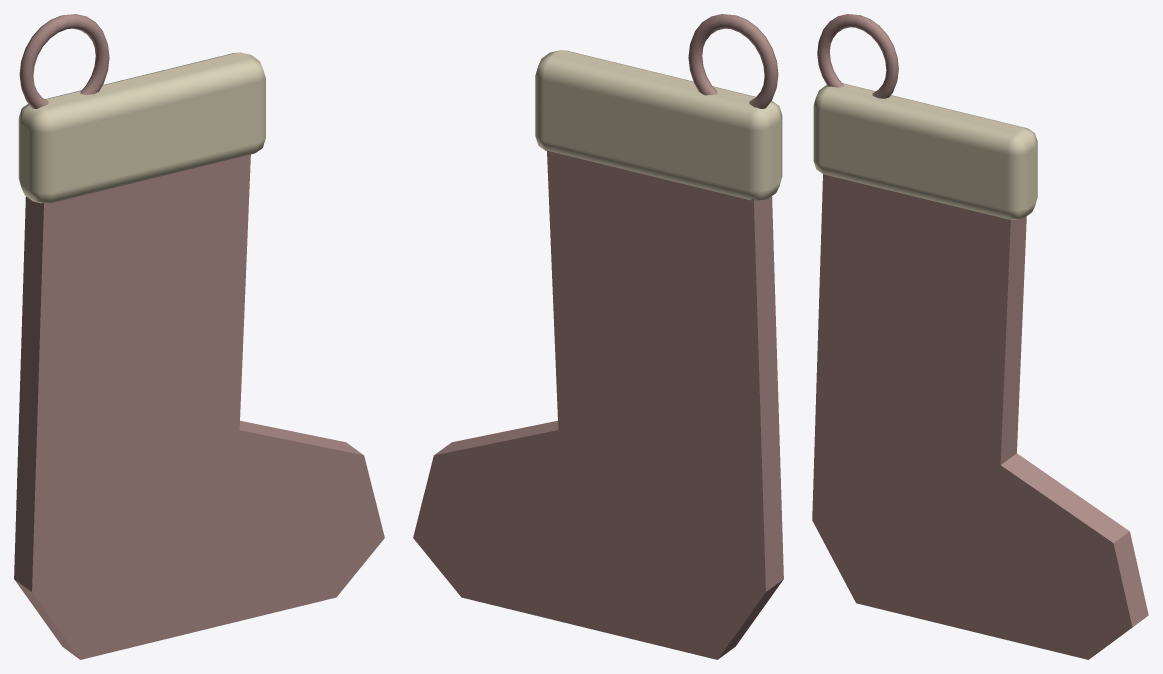
File: stocking.glb
3 renders of one model, left to right at view 1: azimuth 30°, elevation 25°; view 2: azimuth 150°, elevation 25°; view 3: azimuth 330°, elevation 25°, orthographic. The views are drawn at different scales.
Parts seen in each view (by area): view 1: closed-stocking-cloth, folded-stocking-cuff, stocking-hanging-loop; view 2: closed-stocking-cloth, folded-stocking-cuff, stocking-hanging-loop; view 3: closed-stocking-cloth, folded-stocking-cuff, stocking-hanging-loop.
Part boxes in pixels (bbox=[...]): closed-stocking-cloth: bbox=[14, 154, 384, 659]; folded-stocking-cuff: bbox=[18, 52, 265, 203]; stocking-hanging-loop: bbox=[19, 14, 109, 108]; closed-stocking-cloth: bbox=[413, 150, 783, 659]; folded-stocking-cuff: bbox=[535, 50, 782, 200]; stocking-hanging-loop: bbox=[688, 14, 778, 108]; closed-stocking-cloth: bbox=[812, 174, 1148, 659]; folded-stocking-cuff: bbox=[813, 83, 1037, 219]; stocking-hanging-loop: bbox=[817, 14, 898, 98].
Bounding box in the file's own units: 0.514 × 0.8839 × 0.065.
